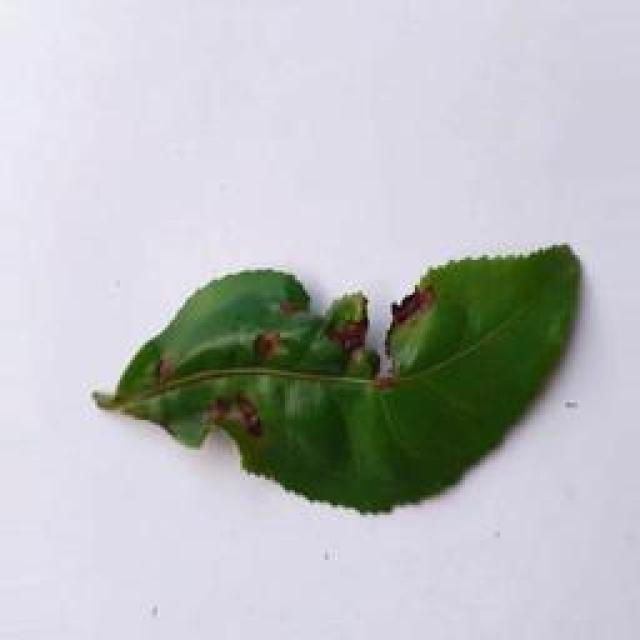Helopeltis: (93, 233, 593, 514)
